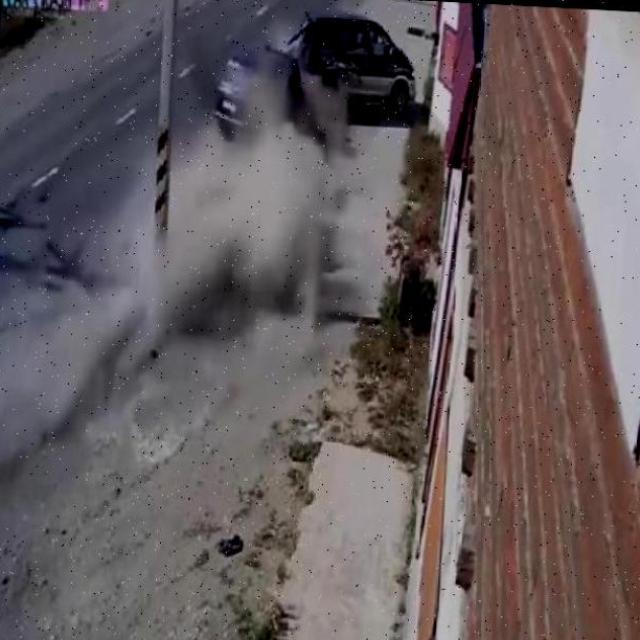accident: (236, 18, 372, 134)
